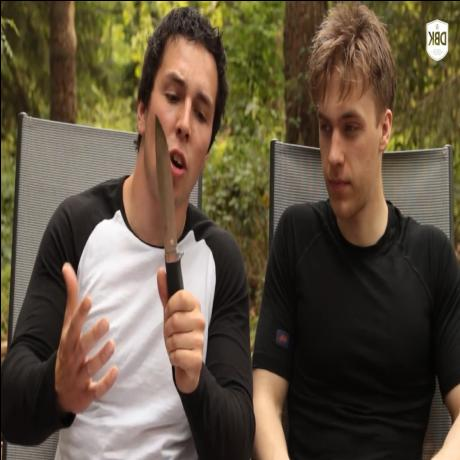1: (0, 5, 255, 460), (250, 0, 460, 460)
weapon: (149, 112, 183, 290)
